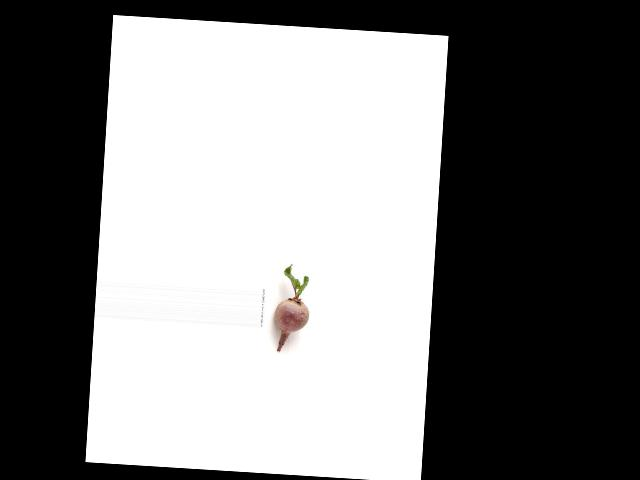beet: (272, 262, 311, 352)
